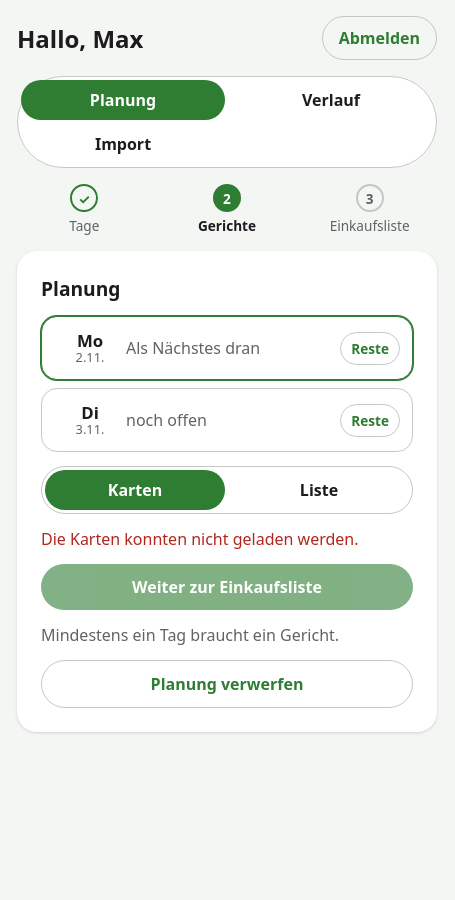
Scenario: choosing a dinner for the next open day › proposes the picked recipe for that day and then waits for the other member
What coordinates should you click on to do the following:
click the button "Liste"
I would click on:
 (319, 490)
Its box is [229,470,409,510].
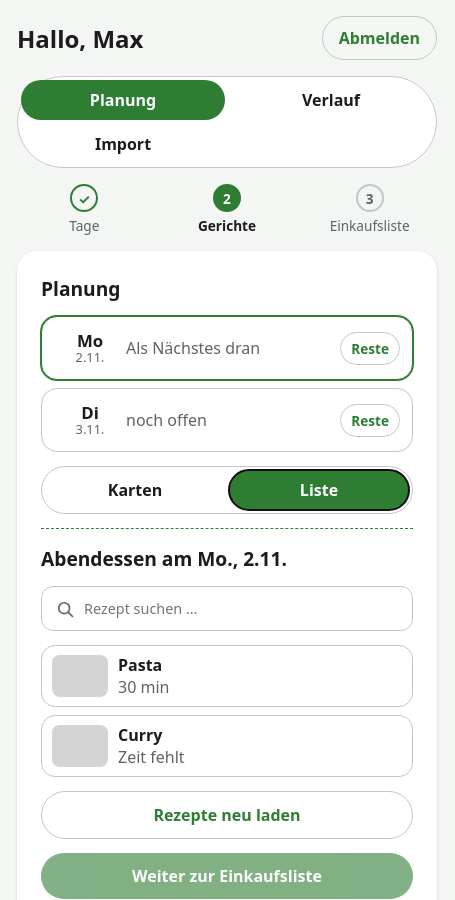
What coordinates should you click on to do the following:
click the button "Pasta 30 min"
I would click on:
 (80, 676)
Its box is [41,645,413,707].
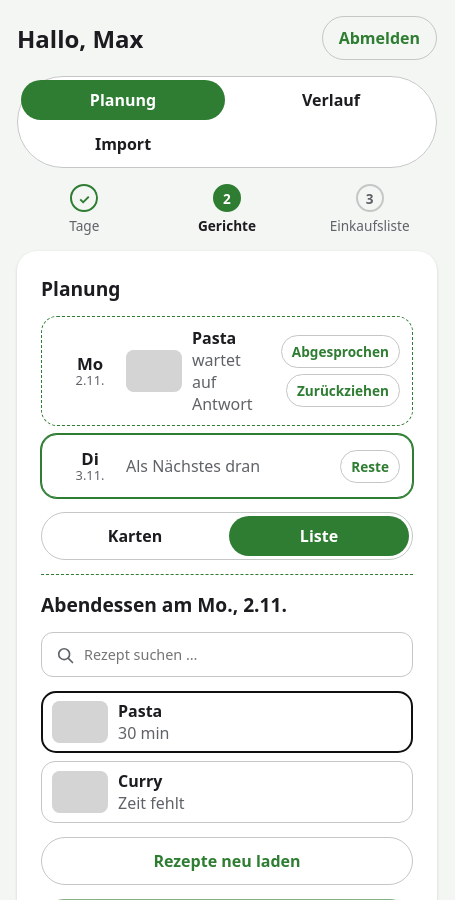
Expected: the button "Zurückziehen" is shown, [286,374,400,407]
